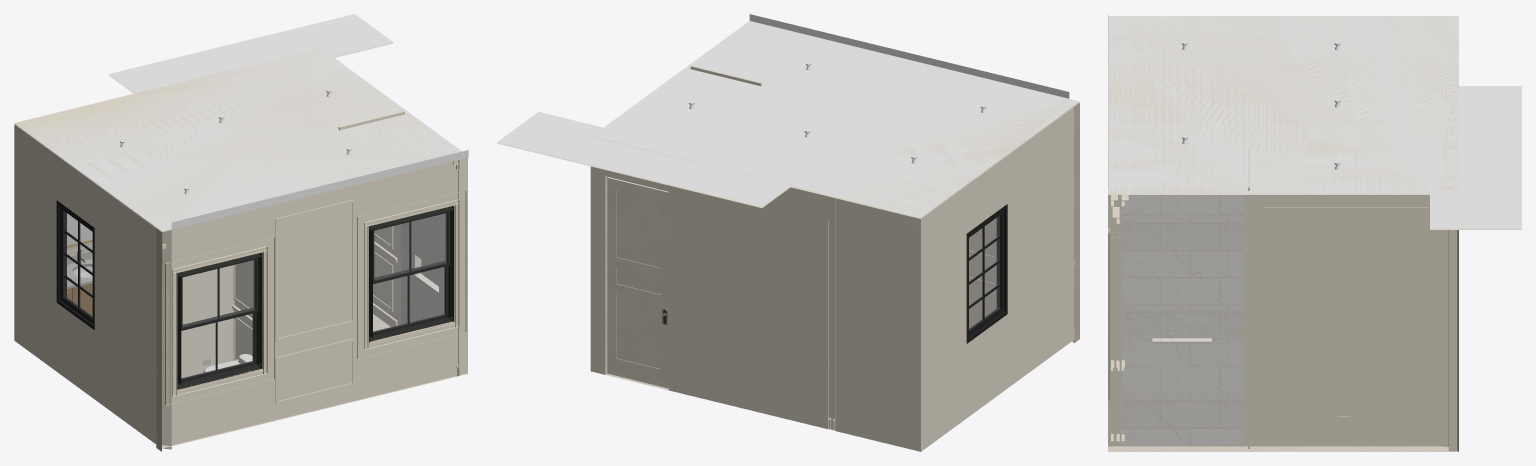
File: primary-bath-ea25a4616018.glb
3 views of the same model, side by side, from view 1: azimuth 30°, elevation 25°; view 2: azimuth 150°, elevation 25°; view 3: azimuth 270°, elevation 25° (orthographic). The views are drawn at different scales.
Visible parts, largest first — view 1: primary-bath-9d91b47435c6fb33, primary-bath-b0ade14315e4f1c3, primary-bath-e8793759323e04f0, primary-bath-c51ecd664a3b22a3, primary-bath-60f0db96f832035a, primary-bath-b5cb73c07919def8, primary-bath-look-9d91b47435c6fb33, primary-bath-10eba734bfa580f9, primary-bath-20932135983111ad, primary-bath-62353aa10fc57f23, primary-bath-696f63e7cd8f31cf, primary-bath-2bc0761cc32b9613 (+9 smaller); view 2: primary-bath-9ecc0d558be1c706, primary-bath-9d91b47435c6fb33, primary-bath-c51ecd664a3b22a3, primary-bath-18f70a4a9eda5dac, primary-bath-e8793759323e04f0, primary-bath-look-9d91b47435c6fb33, primary-bath-20932135983111ad, primary-bath-25ea03c5717987c5, primary-bath-e48b5483df8cacdb, primary-bath-b88ac105ef7c3bdb, primary-bath-62353aa10fc57f23; view 3: primary-bath-9d91b47435c6fb33, primary-bath-fc6585fecfaf7ec3, primary-bath-e8793759323e04f0, primary-bath-3d8660a29b1e398e, primary-bath-2bc0761cc32b9613, primary-bath-look-9d91b47435c6fb33, primary-bath-c791a0f218fead78, primary-bath-9ecc0d558be1c706, primary-bath-343da8f45fc39332, primary-bath-b3921aced1f99593, primary-bath-b3dc771ed6f89851, primary-bath-38b306e83be12a4b (+8 smaller).
Part boxes in pixels (x1,y1,x2,y2): primary-bath-9d91b47435c6fb33: [14, 48, 468, 232]; primary-bath-b0ade14315e4f1c3: [171, 157, 467, 445]; primary-bath-e8793759323e04f0: [14, 48, 468, 230]; primary-bath-c51ecd664a3b22a3: [14, 124, 156, 444]; primary-bath-60f0db96f832035a: [177, 252, 262, 389]; primary-bath-b5cb73c07919def8: [369, 206, 454, 342]; primary-bath-look-9d91b47435c6fb33: [109, 14, 393, 93]; primary-bath-10eba734bfa580f9: [184, 265, 234, 377]; primary-bath-20932135983111ad: [56, 200, 94, 329]; primary-bath-62353aa10fc57f23: [156, 228, 171, 451]; primary-bath-696f63e7cd8f31cf: [172, 246, 267, 396]; primary-bath-2bc0761cc32b9613: [401, 244, 444, 324]; primary-bath-9ecc0d558be1c706: [590, 166, 919, 451]; primary-bath-9d91b47435c6fb33: [591, 21, 1079, 218]; primary-bath-c51ecd664a3b22a3: [911, 107, 1073, 451]; primary-bath-18f70a4a9eda5dac: [607, 177, 668, 388]; primary-bath-e8793759323e04f0: [591, 14, 1074, 215]; primary-bath-look-9d91b47435c6fb33: [497, 112, 790, 207]; primary-bath-20932135983111ad: [966, 204, 1007, 343]; primary-bath-25ea03c5717987c5: [969, 218, 996, 328]; primary-bath-e48b5483df8cacdb: [827, 196, 836, 430]; primary-bath-b88ac105ef7c3bdb: [603, 174, 669, 390]; primary-bath-62353aa10fc57f23: [1072, 103, 1079, 342]; primary-bath-9d91b47435c6fb33: [1108, 16, 1458, 194]; primary-bath-fc6585fecfaf7ec3: [1248, 193, 1458, 451]; primary-bath-e8793759323e04f0: [1108, 14, 1458, 193]; primary-bath-3d8660a29b1e398e: [1121, 195, 1242, 324]; primary-bath-2bc0761cc32b9613: [1121, 338, 1242, 446]; primary-bath-look-9d91b47435c6fb33: [1430, 86, 1521, 229]; primary-bath-c791a0f218fead78: [1108, 189, 1247, 451]; primary-bath-9ecc0d558be1c706: [1447, 230, 1458, 451]; primary-bath-343da8f45fc39332: [1253, 434, 1439, 446]; primary-bath-b3921aced1f99593: [1108, 446, 1457, 451]; primary-bath-b3dc771ed6f89851: [1264, 207, 1428, 352]; primary-bath-38b306e83be12a4b: [1121, 324, 1242, 338].
Size of the model in its own units: 5.14 by 3.04 by 4.23.
38 materials, 8 textured.
